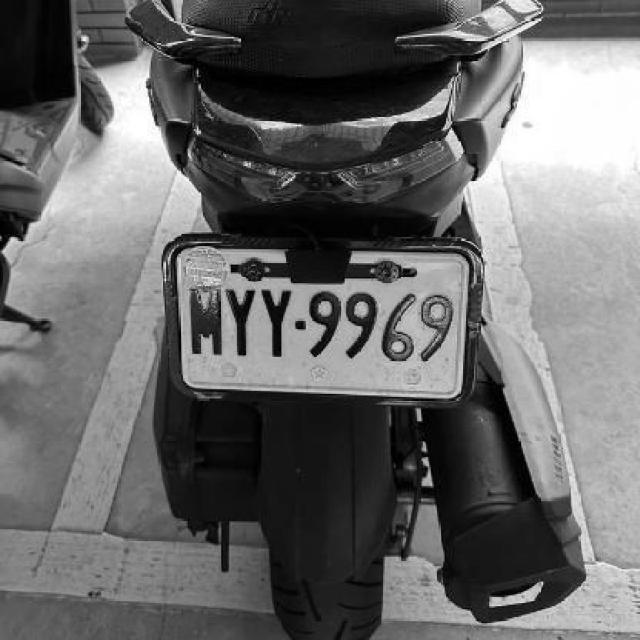-: (294, 318, 304, 331)
6: (377, 289, 418, 360)
9: (416, 290, 456, 364), (340, 288, 378, 360), (304, 288, 342, 360)
M: (189, 282, 225, 356)
T: (258, 283, 294, 357), (224, 284, 258, 356)
